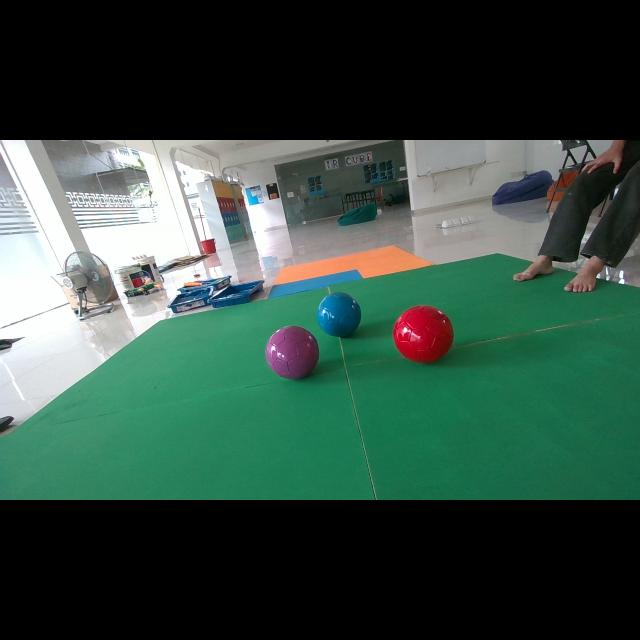B: (318, 292, 361, 337)
P: (266, 325, 318, 378)
R: (392, 305, 452, 362)
